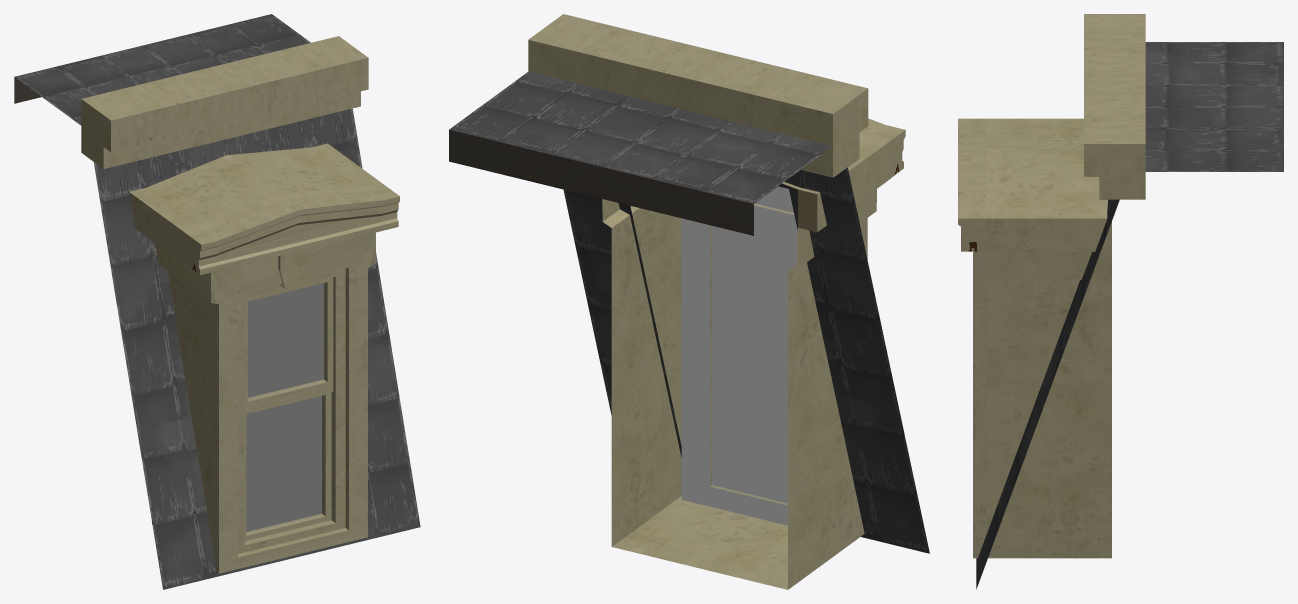
The model's file is Roof_SlateCornice_Window_1.glb.
3 views of the same model, side by side, from view 1: azimuth 30°, elevation 25°; view 2: azimuth 150°, elevation 25°; view 3: azimuth 270°, elevation 25° (orthographic). The views are drawn at different scales.
Parts seen in each view (by area): view 1: Roof_SlateCornice_Window_1; view 2: Roof_SlateCornice_Window_1; view 3: Roof_SlateCornice_Window_1.
Boxes of the visible parts, x1,y1,x2,y2 form: Roof_SlateCornice_Window_1: (14, 14, 420, 589); Roof_SlateCornice_Window_1: (449, 14, 929, 589); Roof_SlateCornice_Window_1: (958, 14, 1283, 589).
Bounding box in the file's own units: 2 × 3.2 × 2.12.
Materials: 5 (3 with a texture image).
